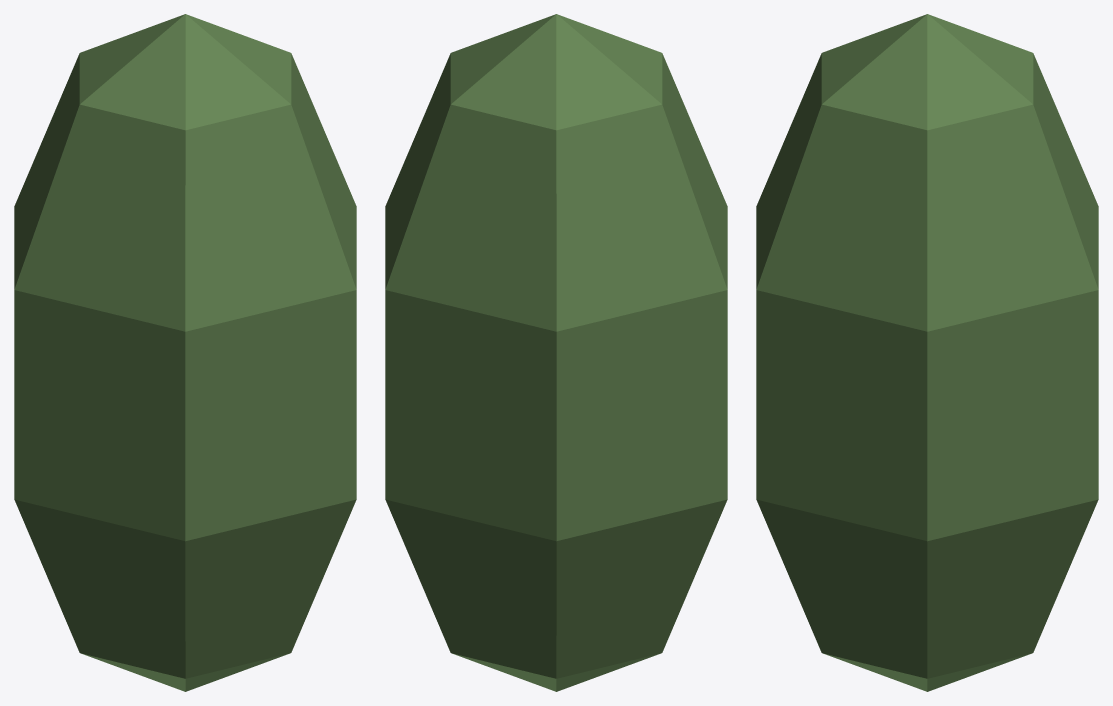
Rendered from olive-fruit.glb.
The picture shows the model from 3 angles, left to right: view 1: azimuth 30°, elevation 25°; view 2: azimuth 150°, elevation 25°; view 3: azimuth 270°, elevation 25°; orthographic projection.
Visible parts, largest first — view 1: SingleOlive; view 2: SingleOlive; view 3: SingleOlive.
Part boxes in pixels (left/top/right/bottom): SingleOlive: left=14, top=14, right=356, bottom=691; SingleOlive: left=385, top=14, right=727, bottom=691; SingleOlive: left=756, top=14, right=1098, bottom=691.
Bounding box in the file's own units: 0.0525 × 0.0993 × 0.0454.
